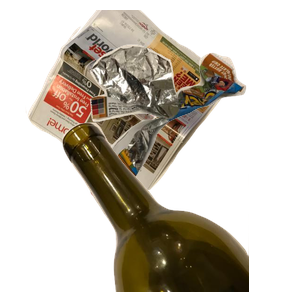glass: (60, 120, 300, 300)
paper: (23, 10, 245, 190)
plastic: (87, 178, 234, 300)
trash: (88, 42, 300, 219)
